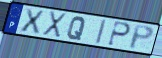I: (94, 18, 108, 46)
P: (128, 24, 155, 51), (106, 20, 132, 48)
Q: (66, 16, 87, 42)
X: (41, 10, 68, 40), (19, 8, 45, 35)
